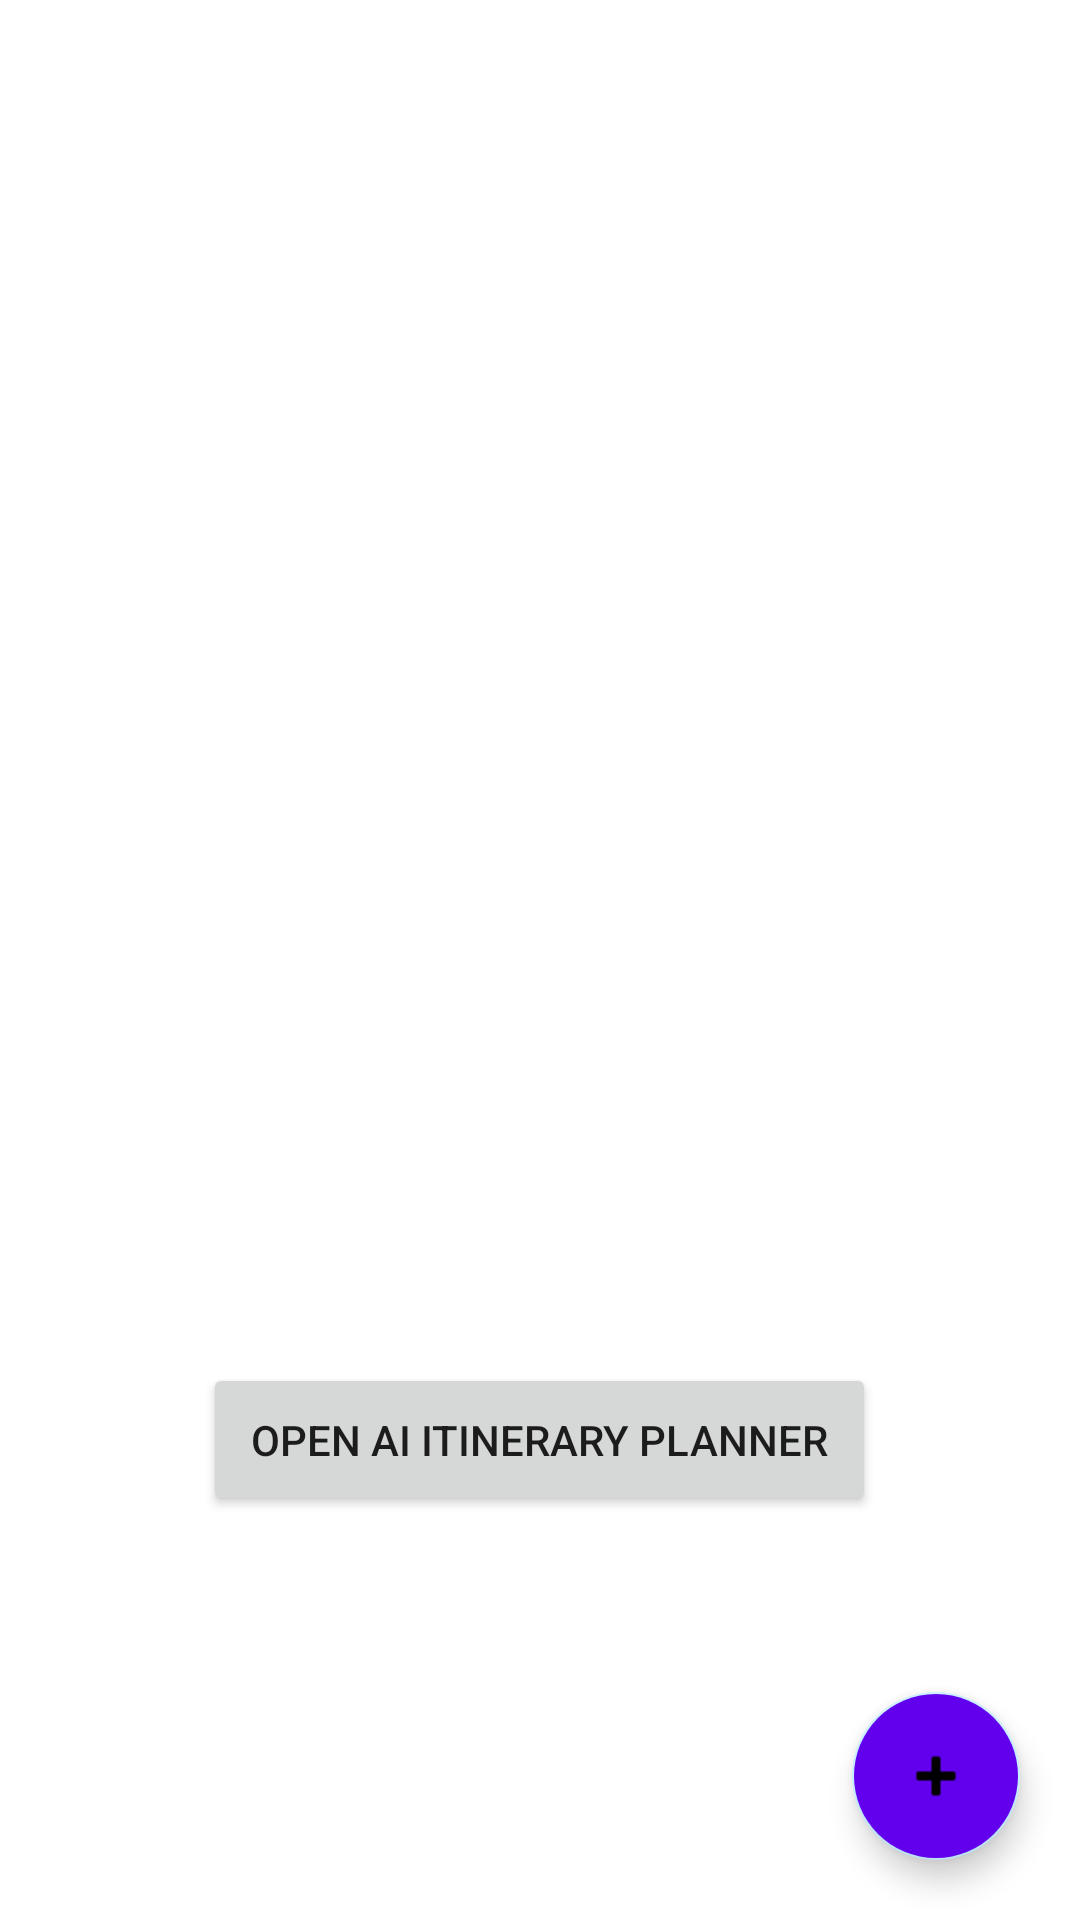

Named icons in this screenshot (1080 x 1920) and their centers, (x,y):
Add Story: (936,1776)
